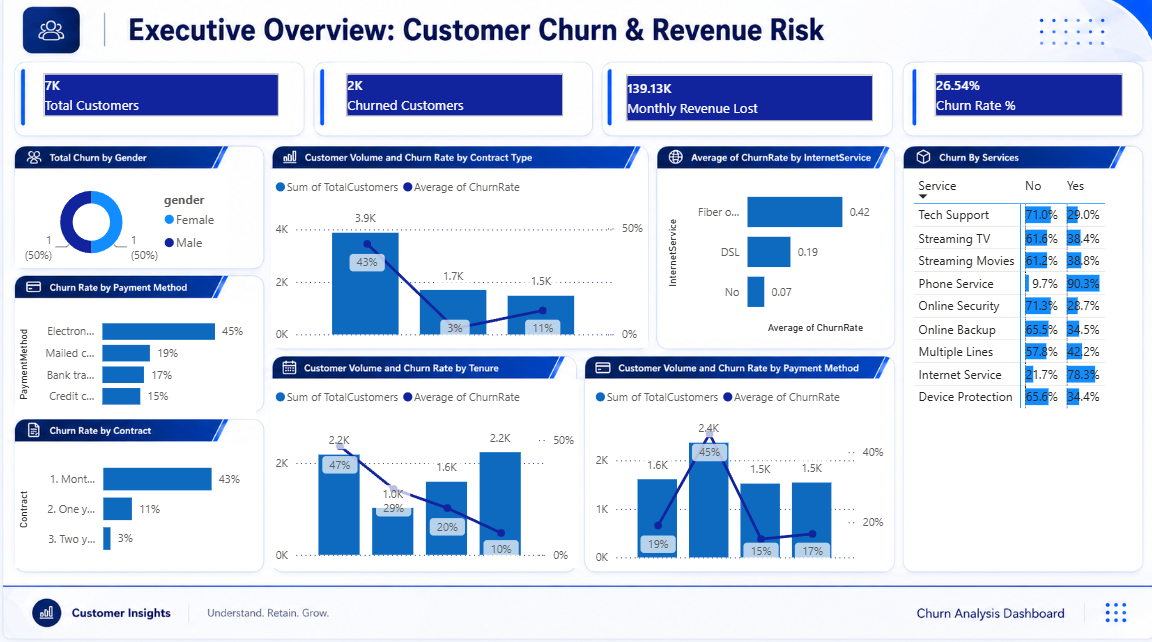

The dashboard page shown, as its layout file describes it:
{"tool":"powerbi","page":{"name":"Executive Overview","canvas":[1280,720],"ordinal":0},"visuals":[{"type":"cardVisual","fields":{"Data":["Sum(vw_churn_overview.ChurnedCustomers)"]},"box":[367.1,71.4,272.9,81.4],"z":0},{"type":"cardVisual","fields":{"Data":["Avg(vw_churn_overview.ChurnRate)"]},"box":[1014.3,71.4,240,81.4],"z":1000},{"type":"cardVisual","fields":{"Data":["Sum(vw_churn_overview.MonthlyRevenueLost)"]},"box":[674.3,72.9,305.7,85.7],"z":2000},{"type":"lineClusteredColumnComboChart","title":"Customer Volume and Churn Rate by Contracts","fields":{"Y":["Sum(vw_churn_by_payment_method.TotalCustomers)"],"Category":["vw_churn_by_payment_method.PaymentMethod"],"Y2":["Avg(vw_churn_by_payment_method.ChurnRate)"]},"box":[652.9,424.3,327.1,210],"z":3000},{"type":"lineClusteredColumnComboChart","title":"Customer Volume and Churn Rate by Tenure","fields":{"Category":["vw_churn_by_tenure_group.TenureGroup"],"Y2":["Avg(vw_churn_by_tenure_group.ChurnRate)"],"Y":["Sum(vw_churn_by_tenure_group.TotalCustomers)"]},"box":[301.4,424.3,338.6,207.1],"z":4000},{"type":"lineClusteredColumnComboChart","title":"Customer Volume and Churn Rate by Contract Type","fields":{"Category":["vw_churn_by_contract.Contract"],"Y":["Sum(vw_churn_by_contract.TotalCustomers)"],"Y2":["Avg(vw_churn_by_contract.ChurnRate)"]},"box":[301.4,194.3,414.3,195.7],"z":5000},{"type":"pivotTable","title":"Churn By Services","fields":{"Rows":["vw_service_subscription_summary.Service"],"Columns":["vw_service_subscription_summary.ServiceStatus"],"Values":["Avg(vw_service_subscription_summary.Percentage)"]},"box":[1002.9,194.3,251.4,440],"z":6000},{"type":"donutChart","title":"Total Churn by Gender","fields":{"Category":["vw_total_churn_by_gender.gender"],"Y":["CountNonNull(vw_total_churn_by_gender.TotalChurnedCustomers)"]},"box":[18.6,201.4,234.3,100],"z":7000},{"type":"clusteredBarChart","title":"Churn Rate by Payment Method","fields":{"Y":["Avg(vw_churn_by_payment_method.ChurnRate)"],"Category":["vw_churn_by_payment_method.PaymentMethod"]},"box":[18.6,340,265.7,127.1],"z":8000},{"type":"clusteredBarChart","title":"Churn Rate by Contract","fields":{"Category":["vw_churn_by_contract.Contract"],"Y":["Avg(vw_churn_by_contract.ChurnRate)"]},"box":[18.6,495.7,270,135.7],"z":9000},{"type":"clusteredBarChart","fields":{"Y":["Avg(vw_churn_by_internet_service.ChurnRate)"],"Category":["vw_churn_by_internet_service.InternetService"]},"box":[732.9,194.3,247.1,185.7],"z":10000},{"type":"cardVisual","fields":{"Data":["Sum(vw_churn_overview.TotalCustomers)"]},"box":[34.3,71.4,292.9,81.4],"z":11000}]}

Visuals, with their boxes in screenshot pixels (x1, y1, x2, y2), scaled from the page's 1280x720 canvas onto the 1152x642 screenshot:
cardVisual - Sum(vw_churn_overview.ChurnedCustomers): box(330, 64, 576, 136)
cardVisual - Avg(vw_churn_overview.ChurnRate): box(913, 64, 1129, 136)
cardVisual - Sum(vw_churn_overview.MonthlyRevenueLost): box(607, 65, 882, 141)
"Customer Volume and Churn Rate by Contracts" lineClusteredColumnComboChart: box(588, 378, 882, 566)
"Customer Volume and Churn Rate by Tenure" lineClusteredColumnComboChart: box(271, 378, 576, 563)
"Customer Volume and Churn Rate by Contract Type" lineClusteredColumnComboChart: box(271, 173, 644, 348)
"Churn By Services" pivotTable: box(903, 173, 1129, 566)
"Total Churn by Gender" donutChart: box(17, 180, 228, 269)
"Churn Rate by Payment Method" clusteredBarChart: box(17, 303, 256, 416)
"Churn Rate by Contract" clusteredBarChart: box(17, 442, 260, 563)
clusteredBarChart - Avg(vw_churn_by_internet_service.ChurnRate) x vw_churn_by_internet_service.InternetService: box(660, 173, 882, 339)
cardVisual - Sum(vw_churn_overview.TotalCustomers): box(31, 64, 294, 136)
